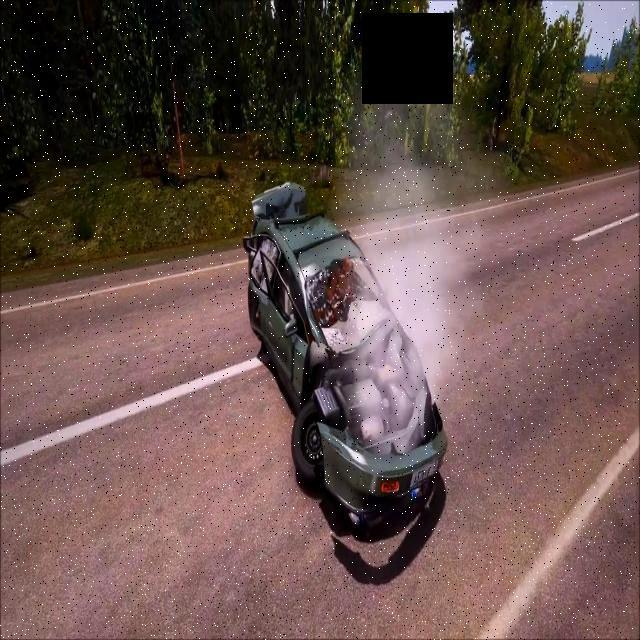severe: (241, 178, 450, 538)
